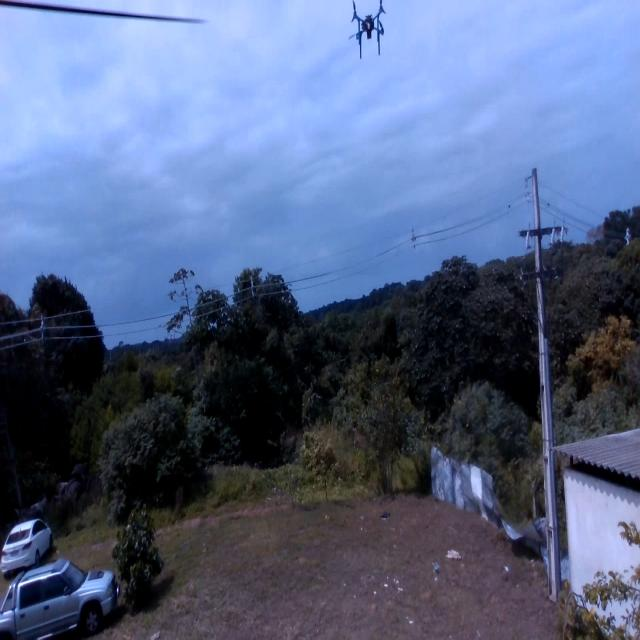-uav-: (345, 0, 392, 65)
